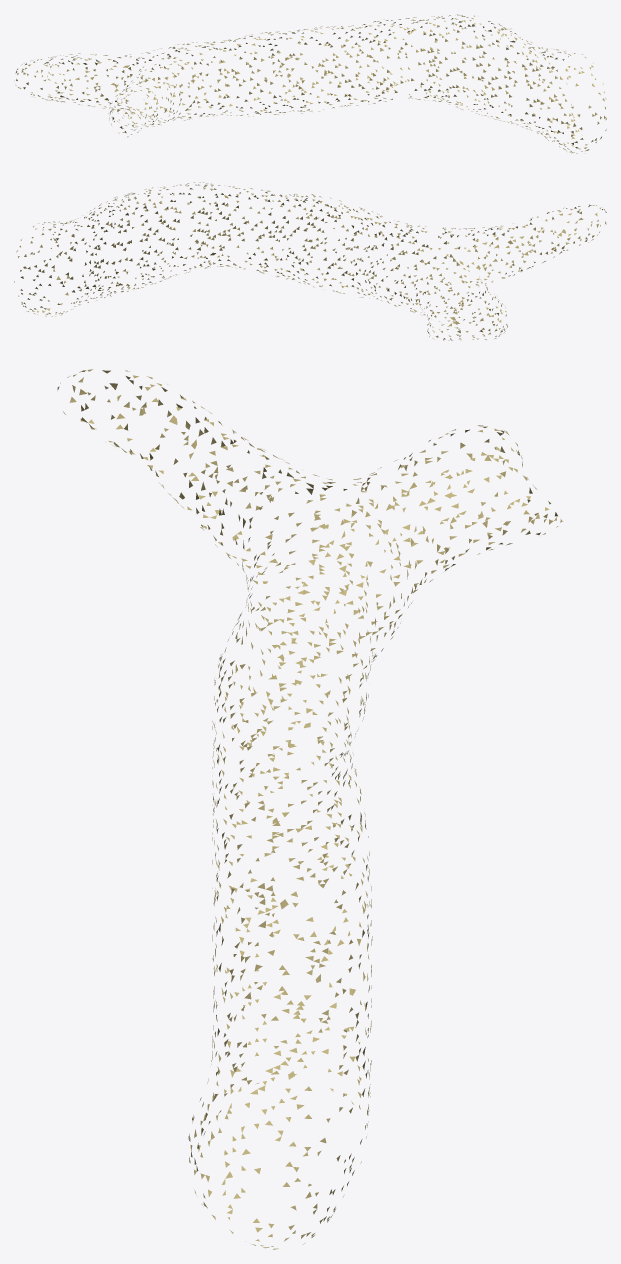
File: morph_008.glb
The picture shows the model from 3 angles, top to bottom: view 1: azimuth 30°, elevation 25°; view 2: azimuth 150°, elevation 25°; view 3: azimuth 270°, elevation 25°; orthographic projection. The views are drawn at different scales.
Size of the model in its own units: 112 by 40.7 by 47.07.
